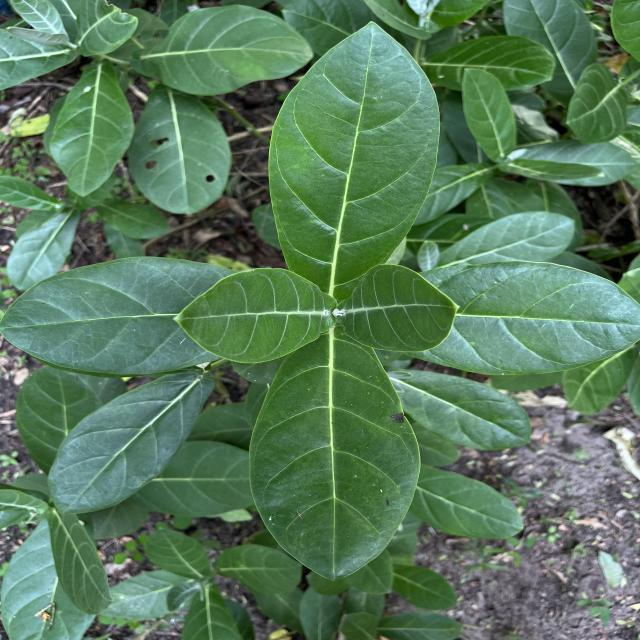Calotropis gigantea: (265, 19, 445, 287), (246, 328, 424, 584), (0, 254, 241, 376), (418, 260, 640, 377), (45, 368, 216, 516), (133, 3, 315, 98), (171, 266, 340, 365), (126, 81, 235, 216), (386, 366, 534, 452), (48, 58, 137, 198), (341, 264, 461, 354), (438, 210, 578, 263), (459, 66, 518, 163), (104, 70, 114, 72)
